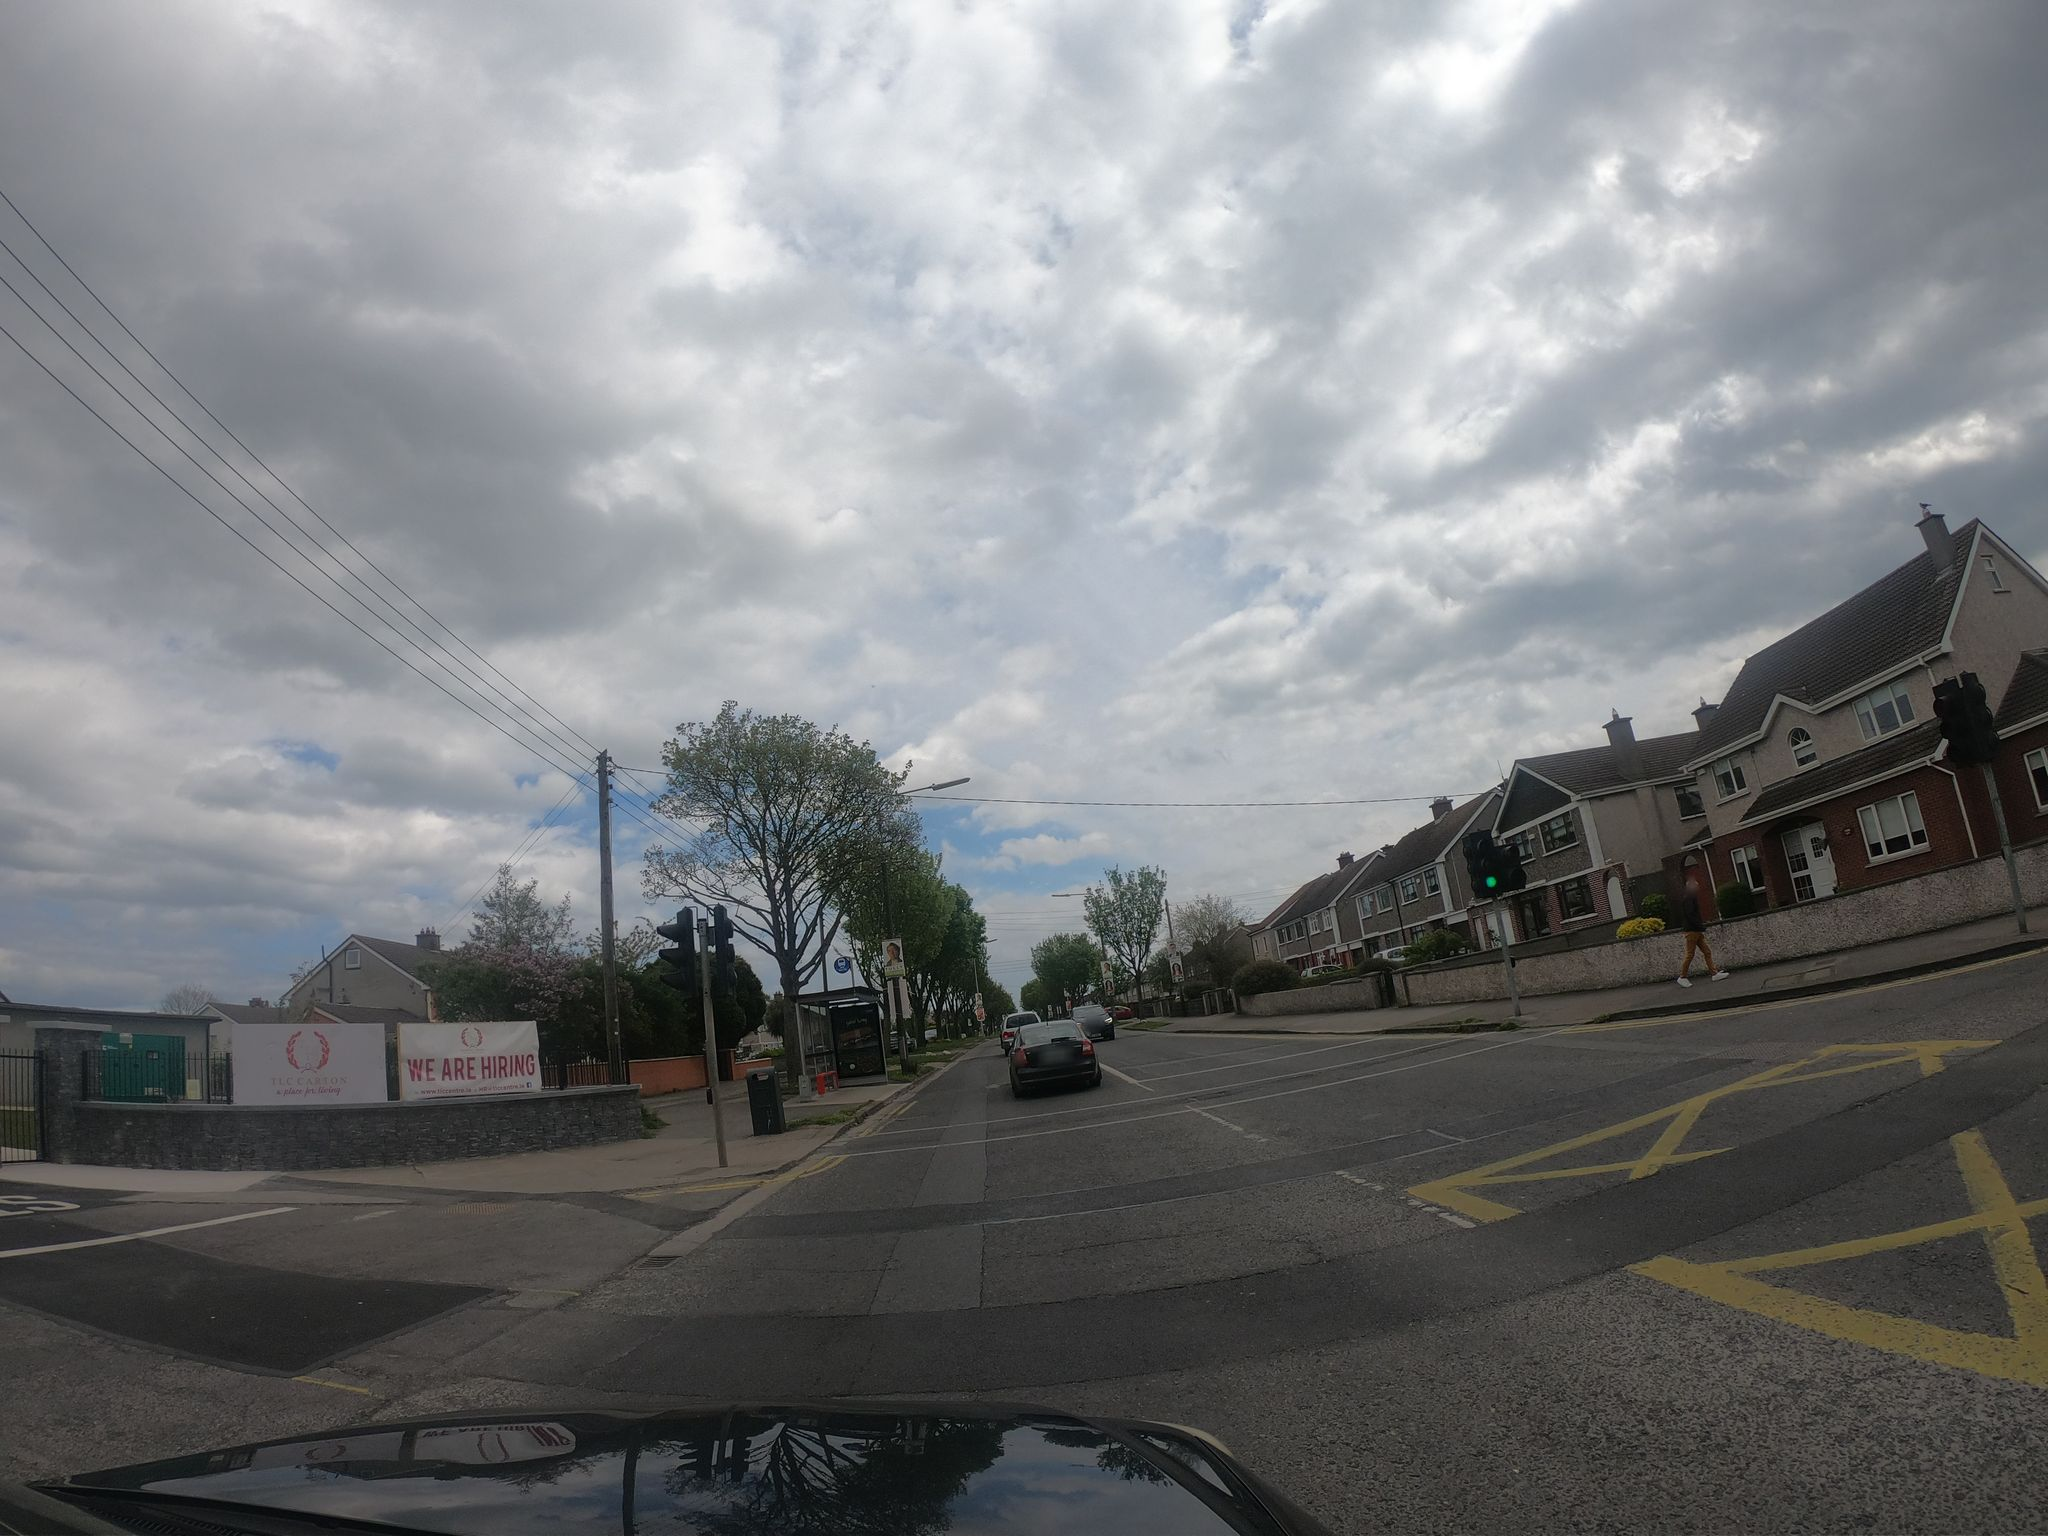vinyl banner: (393, 1000, 548, 1117)
